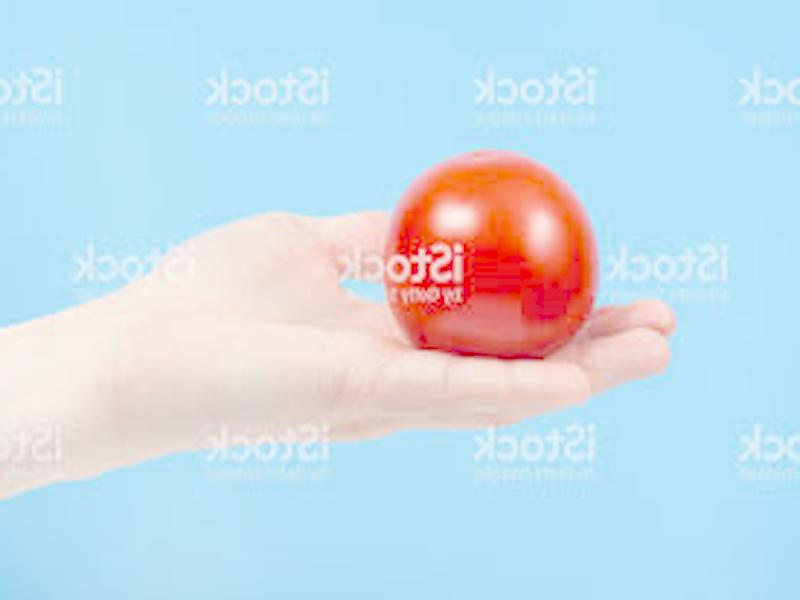Tomato: (386, 154, 598, 357)
